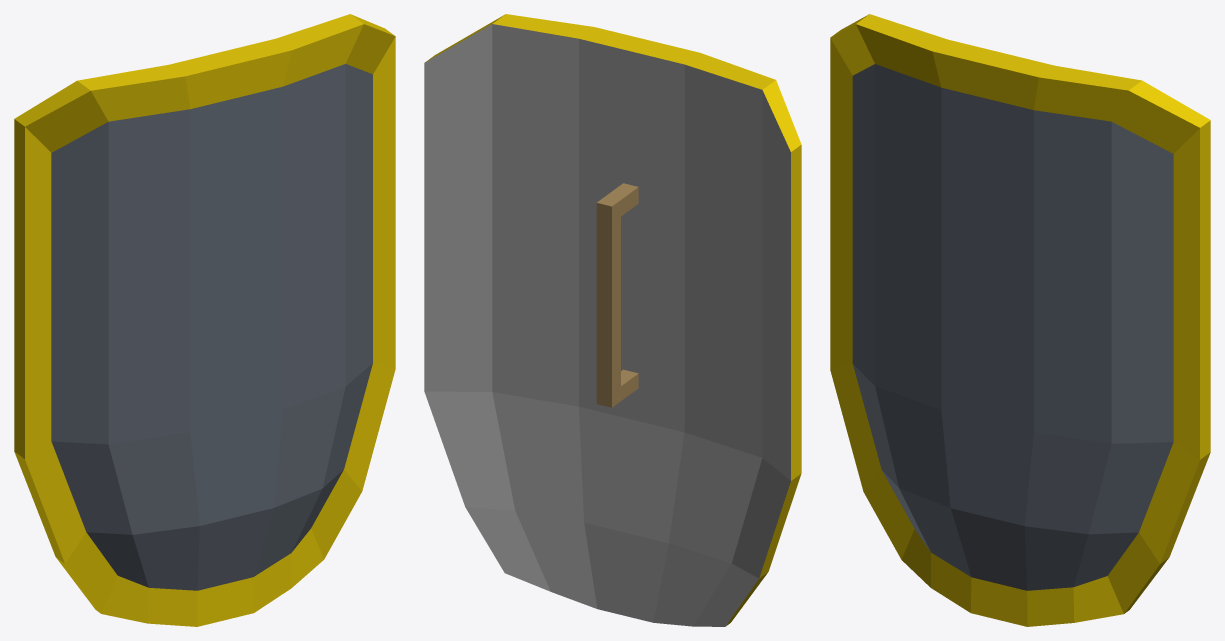
The model's file is khien character.fbx.
3 renders of one model, left to right at view 1: azimuth 30°, elevation 25°; view 2: azimuth 150°, elevation 25°; view 3: azimuth 330°, elevation 25°, orthographic.
Parts seen in each view (by area): view 1: khien_Character; view 2: khien_Character; view 3: khien_Character.
Boxes of the visible parts, x1=… form: khien_Character: x1=14, y1=14, x2=395, y2=626; khien_Character: x1=424, y1=14, x2=801, y2=626; khien_Character: x1=830, y1=14, x2=1210, y2=626.
Size of the model in its own units: 2.23 by 3.25 by 0.4483.
